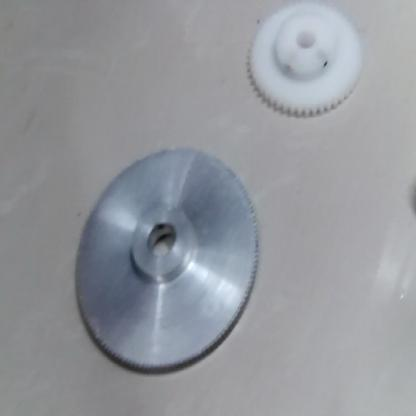FOD: (55, 132, 267, 384), (242, 8, 377, 113)
